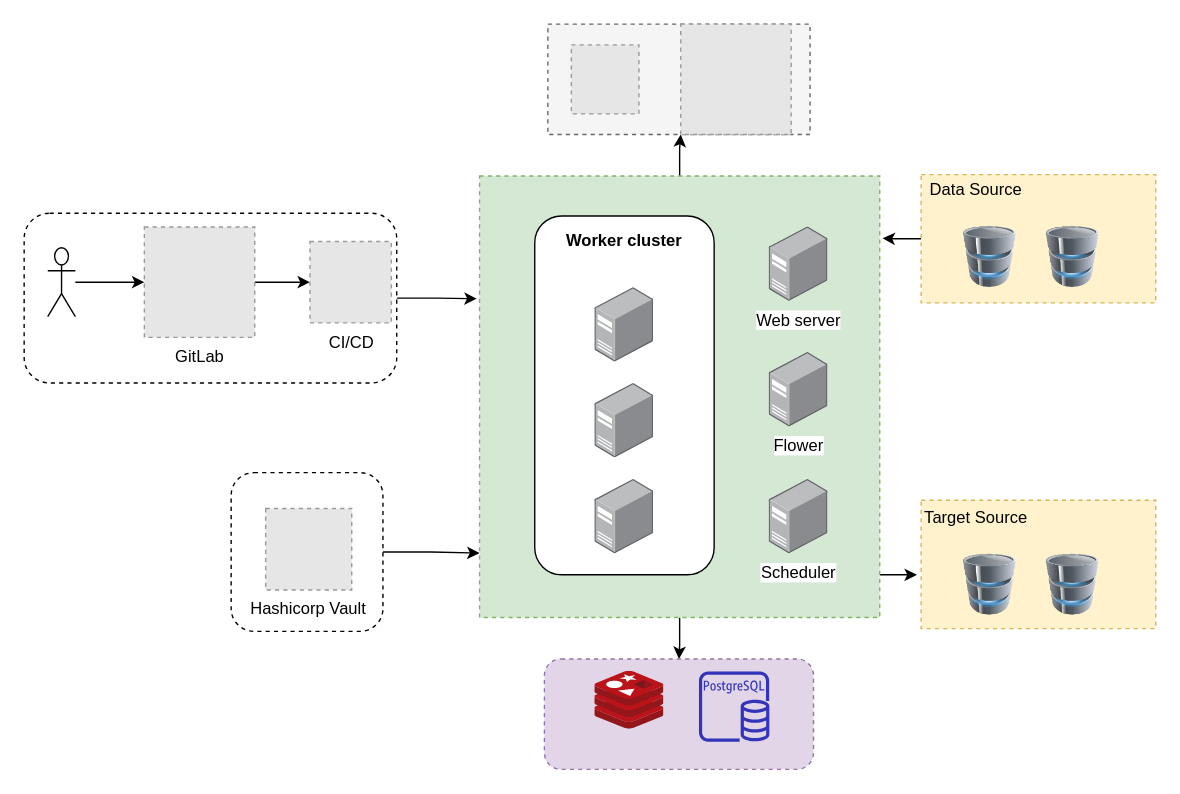
The diagram is 1180 pixels wide and 794 high, and some of its shapes have lost their labels. Grey dashed boxes stand in for pictures. The centre of each missing label's shape, as x and y in pixels:
Redis: the point at 628,700
Team: the point at 60,281
